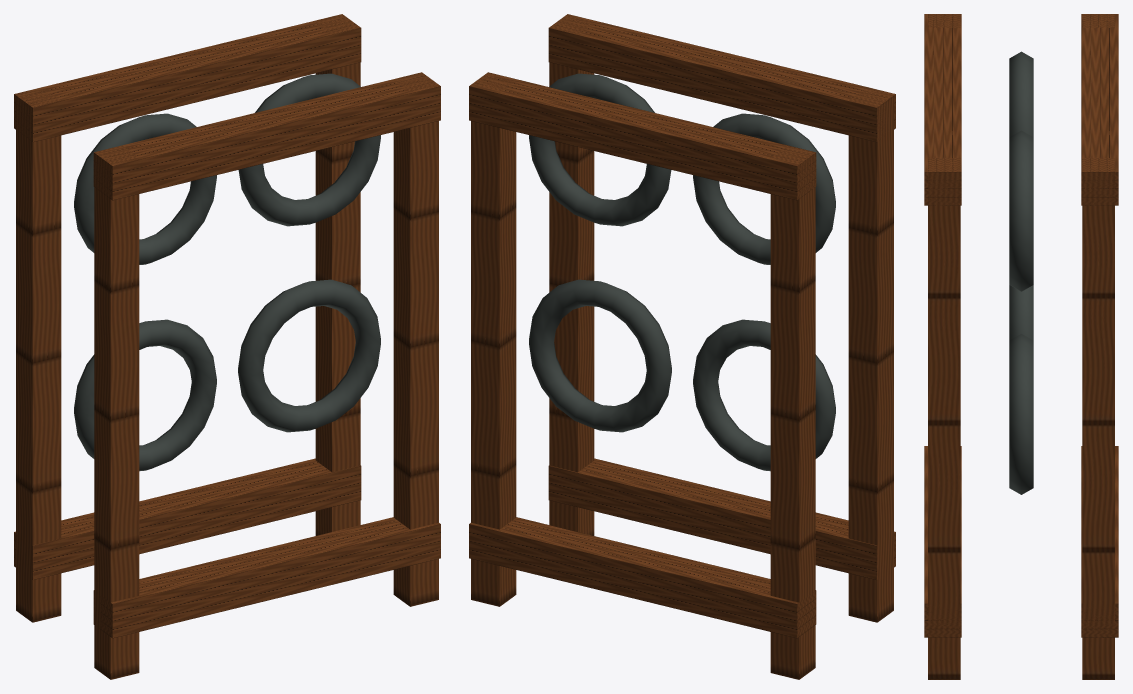
The model's file is prehistoric-survivor-settlement-lashing-supply-rack-baebb388__23225.glb.
The picture shows the model from 3 angles, left to right: view 1: azimuth 30°, elevation 25°; view 2: azimuth 150°, elevation 25°; view 3: azimuth 270°, elevation 25°; orthographic projection.
Parts seen in each view (by area): view 1: lashing-supply-rack; view 2: lashing-supply-rack; view 3: lashing-supply-rack.
Part boxes in pixels (box(x1,y1,x2,y2)): lashing-supply-rack: box(14, 14, 440, 679); lashing-supply-rack: box(469, 14, 895, 679); lashing-supply-rack: box(924, 14, 1118, 679).
Size of the model in its own units: 0.8 by 1.2 by 0.4161.
Materials: 2 (1 with a texture image).
